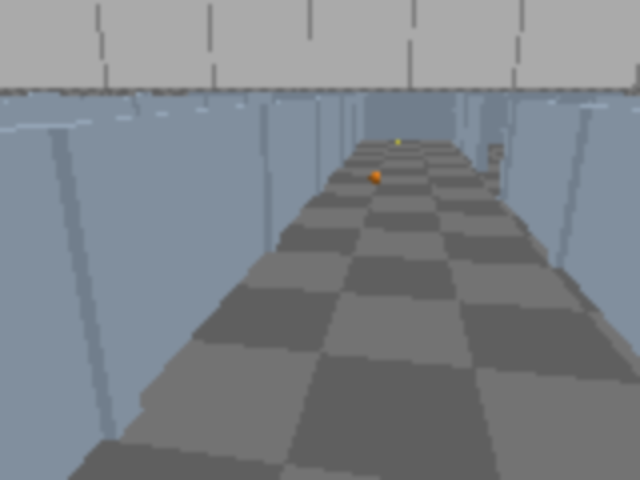person: (633, 0, 638, 168)
